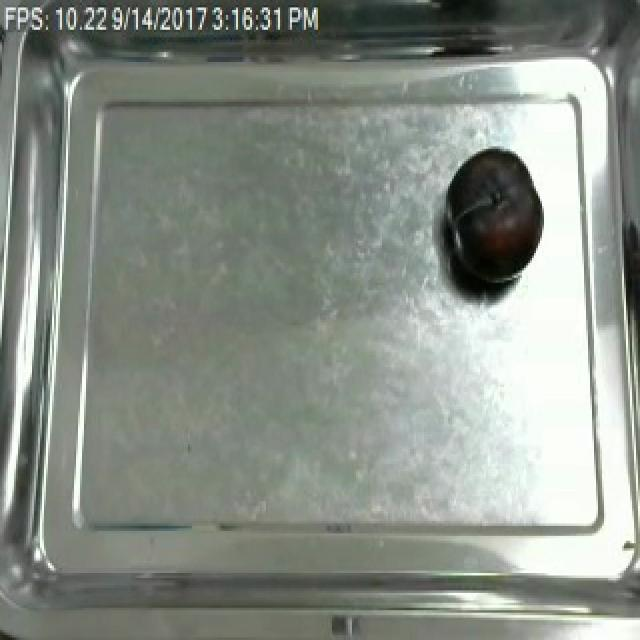Fruit: (440, 144, 550, 295)
